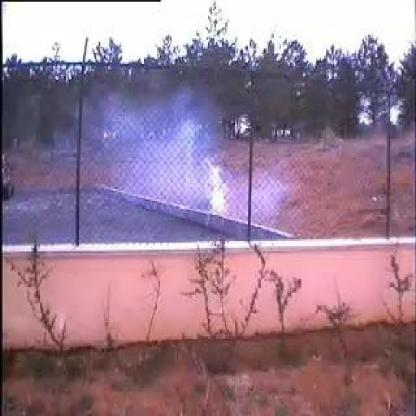-: (90, 80, 282, 222)
